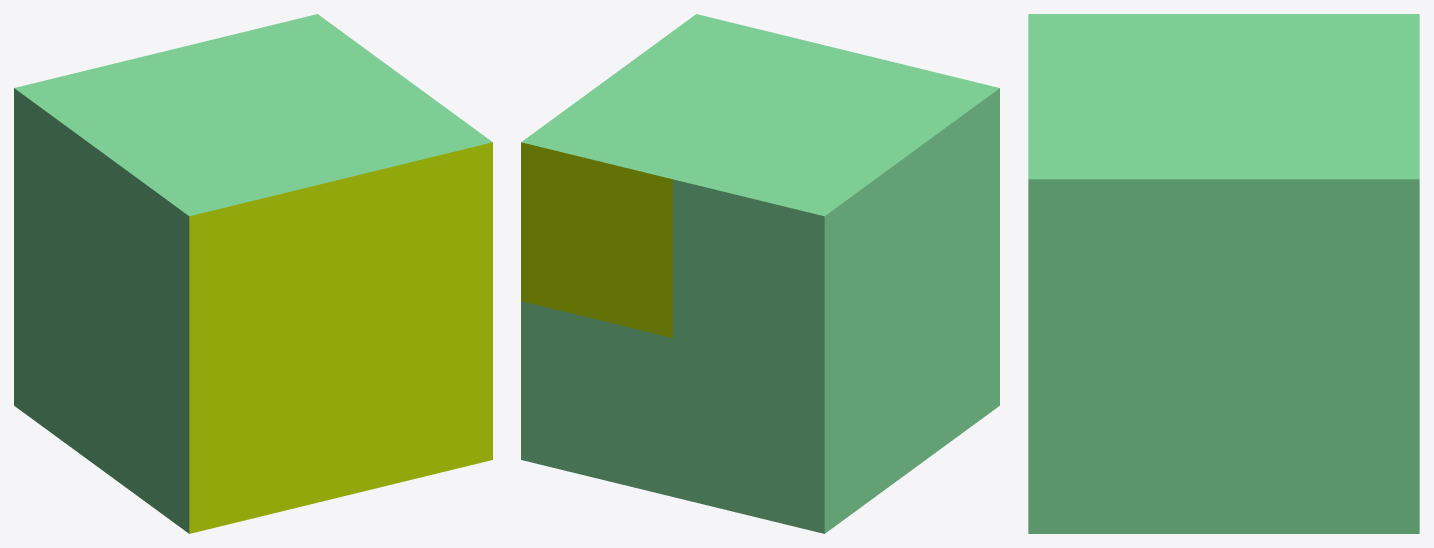
The picture shows the model from 3 angles, left to right: view 1: azimuth 30°, elevation 25°; view 2: azimuth 150°, elevation 25°; view 3: azimuth 270°, elevation 25°; orthographic projection. The views are drawn at different scales.
Parts seen in each view (by area): view 1: Cube; view 2: Cube; view 3: Cube.
Part boxes in pixels (x1,y1,x2,y2): Cube: [14, 14, 492, 533]; Cube: [521, 14, 999, 533]; Cube: [1028, 14, 1419, 533].
Size of the model in its own units: 2 by 2 by 2.
